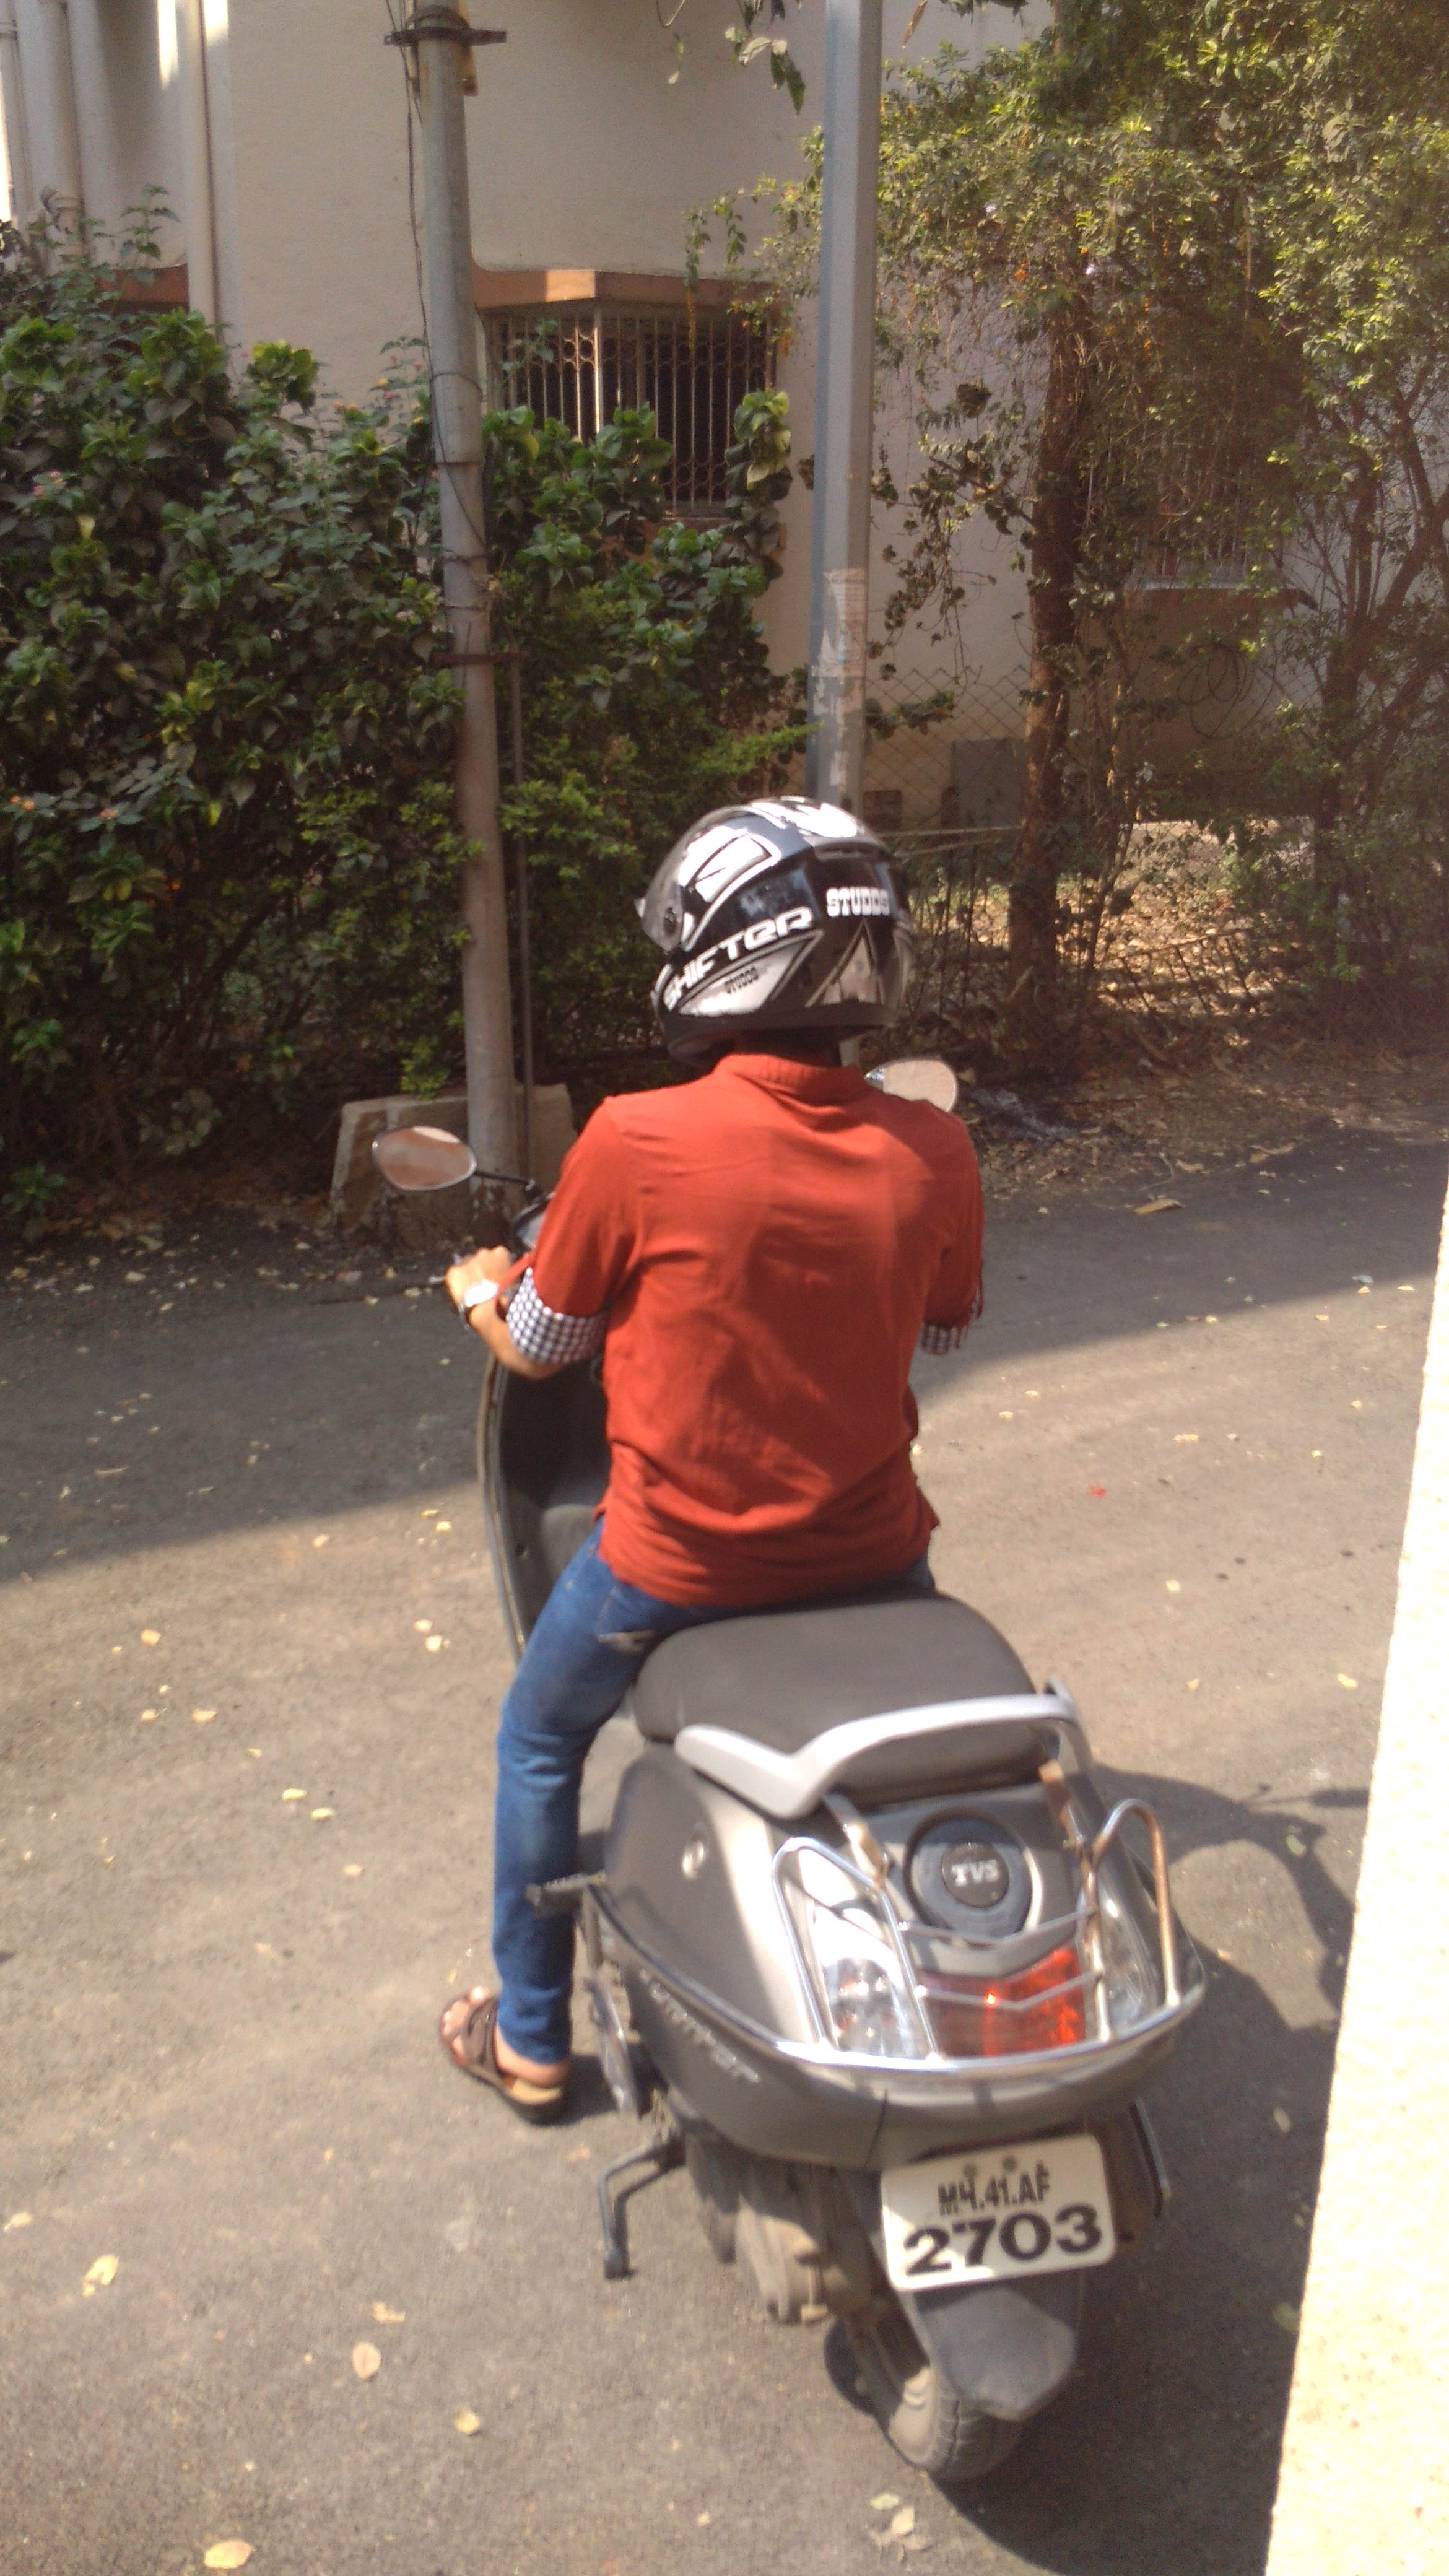helmet: (373, 718, 1092, 2118)
